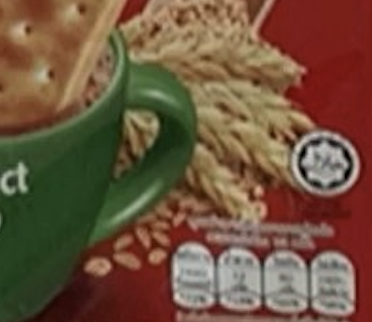halal: (305, 147, 346, 176)
